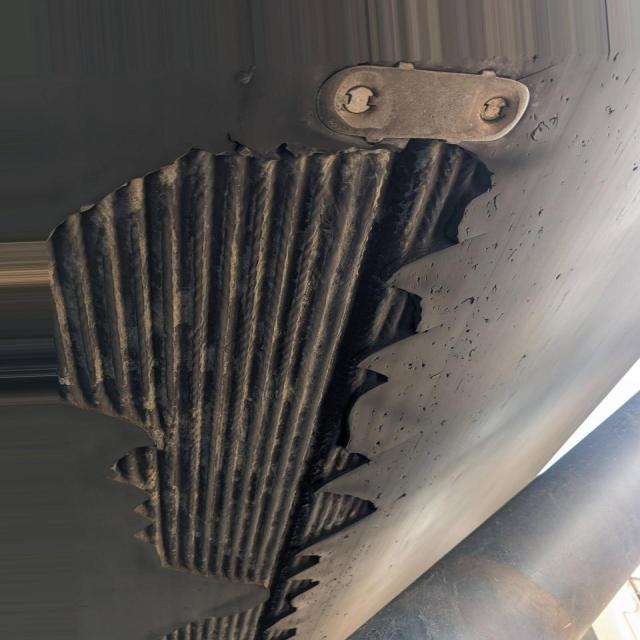Tear: (52, 136, 507, 640)
